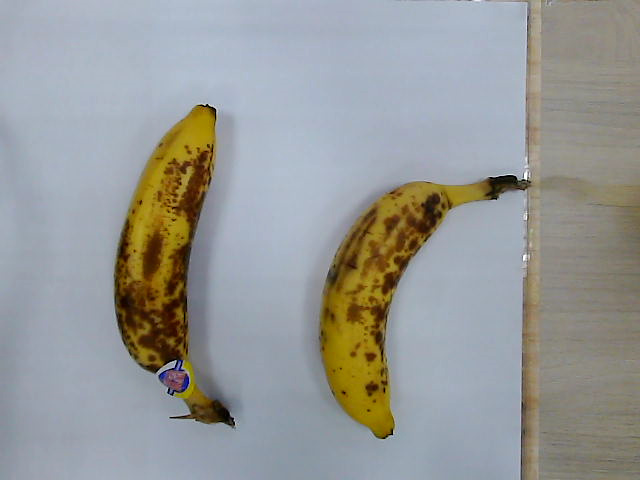rotten_banana: (318, 175, 525, 442), (113, 106, 241, 430)
